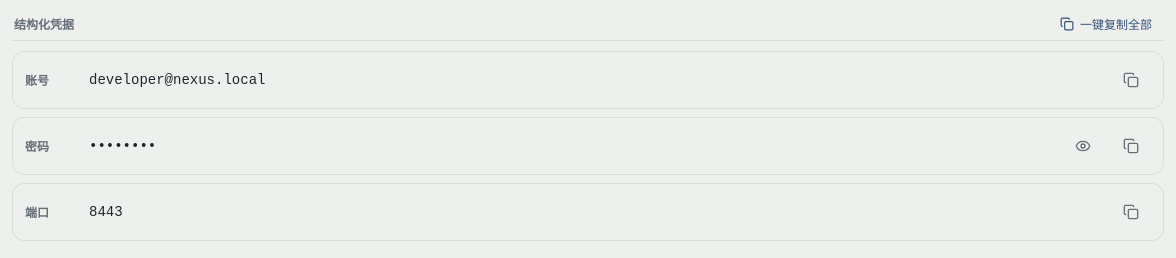
StructuredDeliveryView › renders all fields and masks sensitive fields by default
This screenshot has width=1176, height=258.
Expected: the element with test id "structured-field-account" shows "developer@nexus.local", [89,72,265,88]
Expected: the element with test id "structured-field-password" shows "••••••••", [89,138,156,154]
// Toggle reveal
Click the button with test id "structured-reveal-password" at coordinates (1083, 146), box [1063,126,1103,166]
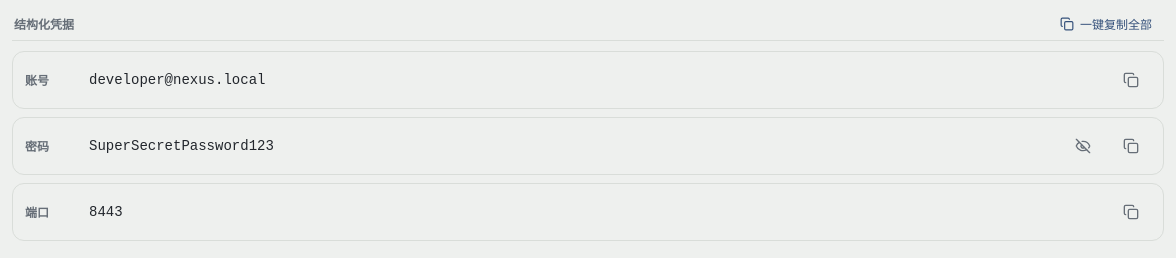
Expected: the element with test id "structured-field-password" shows "SuperSecretPassword123", [89,138,274,154]
// Toggle back to mask
Click the button with test id "structured-reveal-password" at coordinates (1083, 146), box [1063,126,1103,166]
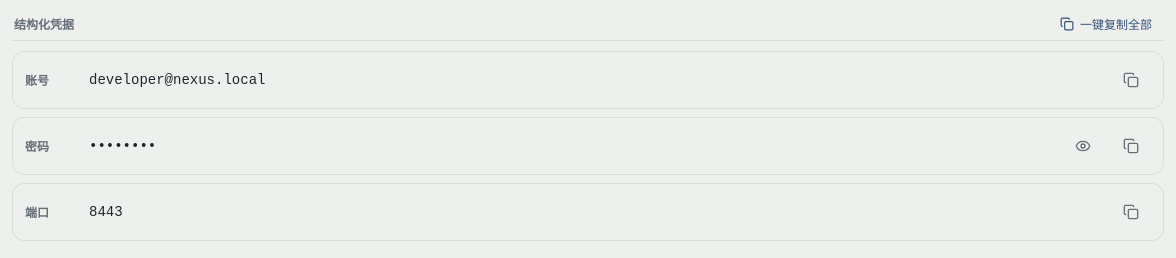
Expected: the element with test id "structured-field-password" shows "••••••••", [89,138,156,154]
